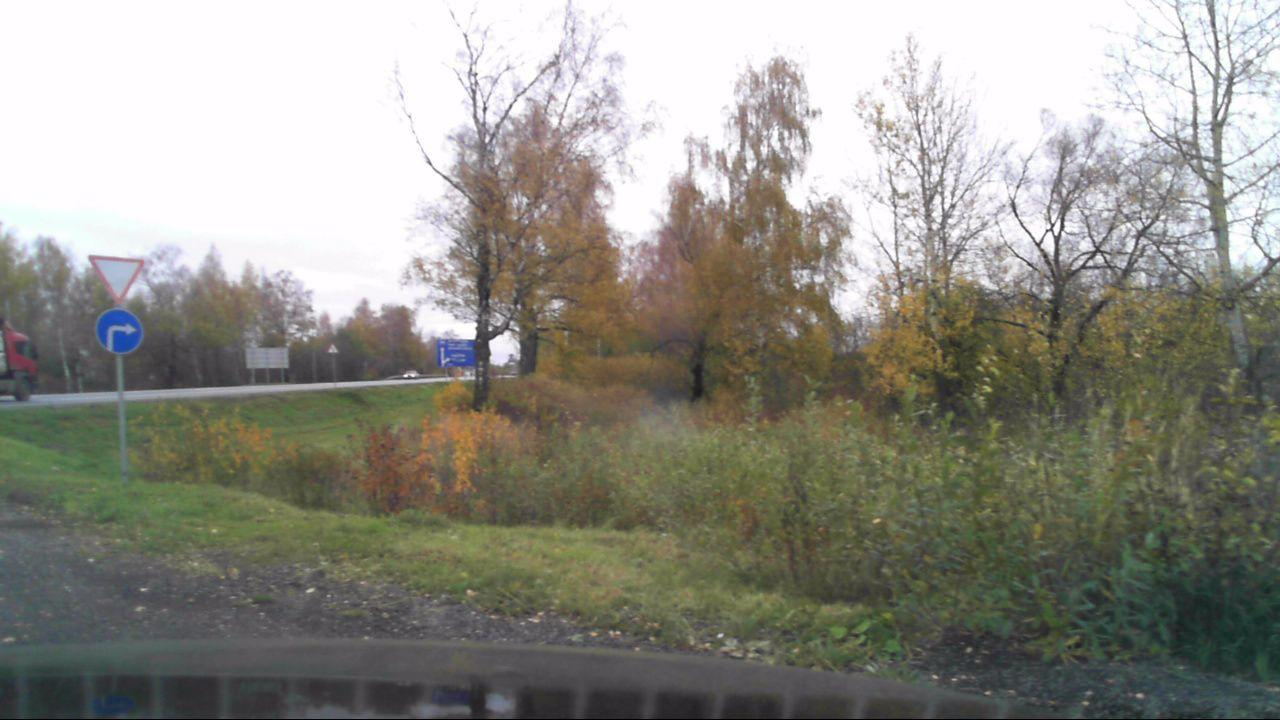2_4: (87, 254, 144, 307)
4_1_2: (92, 309, 145, 355)
